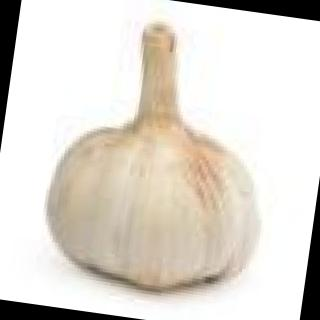Bawang Putih: (28, 2, 295, 310)
